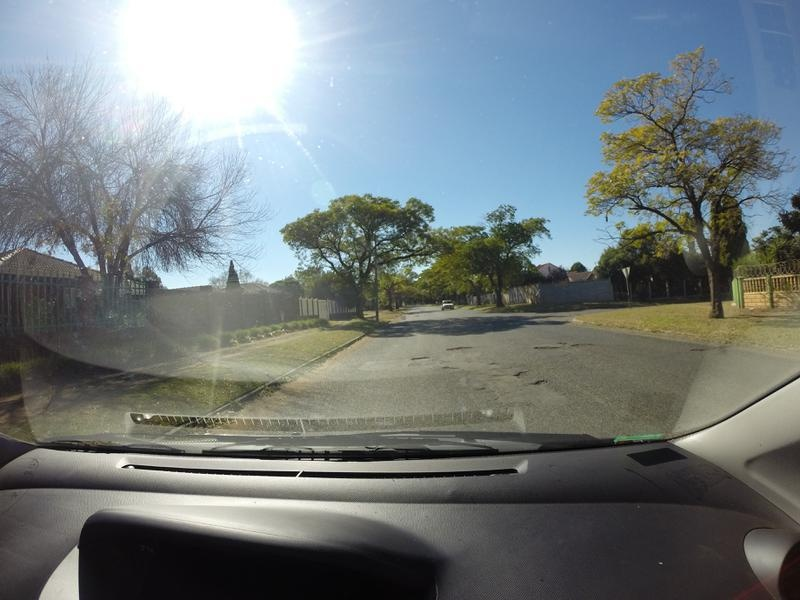pothole: (533, 339, 565, 354), (507, 362, 532, 378), (408, 350, 432, 363), (443, 342, 474, 352), (527, 376, 551, 388), (568, 339, 595, 349)
